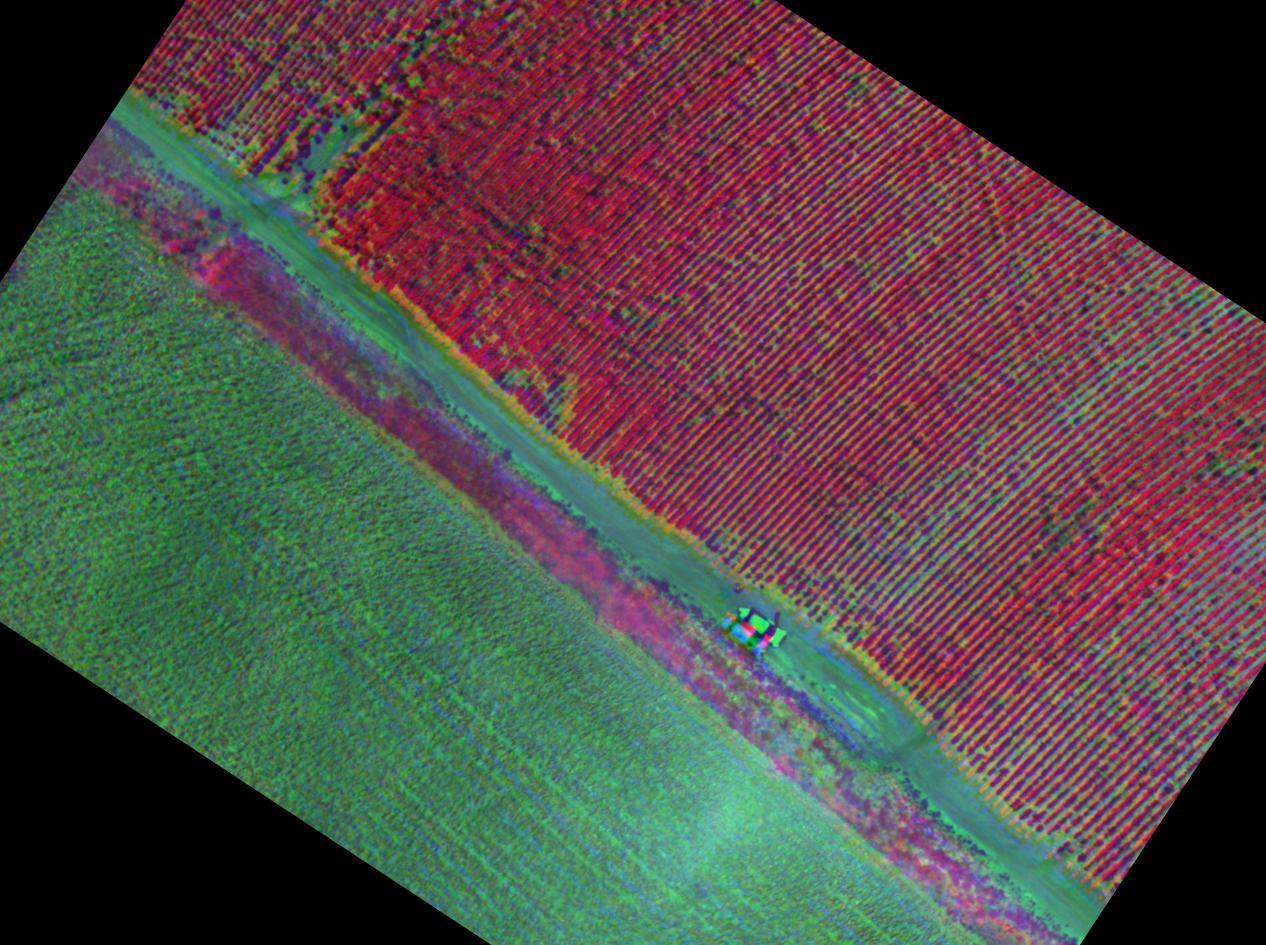dc: (261, 67, 395, 212), (848, 471, 973, 593), (498, 340, 591, 433), (1038, 479, 1121, 576)
